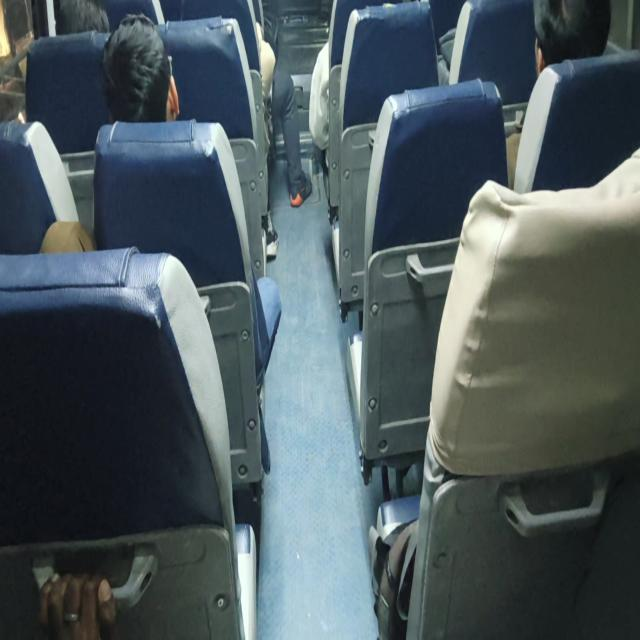person: (97, 23, 193, 112), (519, 0, 616, 71)
